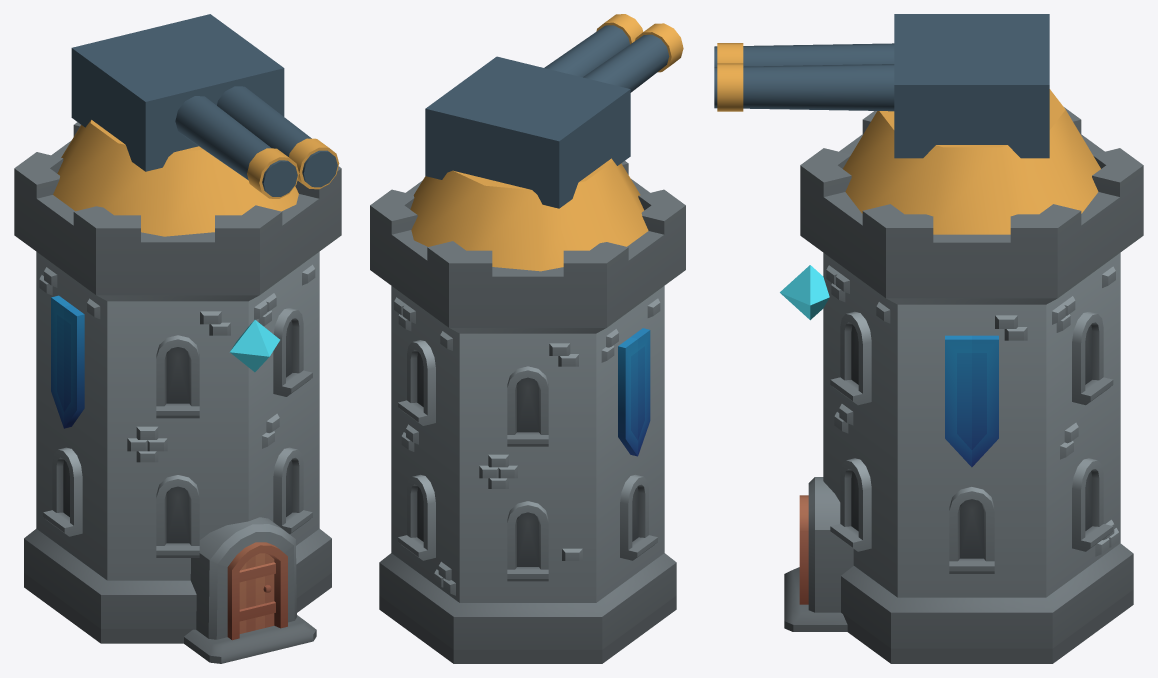
Rendered from tower_gun_l1.glb.
3 renders of one model, left to right at view 1: azimuth 30°, elevation 25°; view 2: azimuth 150°, elevation 25°; view 3: azimuth 270°, elevation 25°, orthographic. The views are drawn at different scales.
Parts seen in each view (by area): view 1: Base, BarrelAssembly, Turret; view 2: Base, BarrelAssembly, Turret; view 3: Base, BarrelAssembly, Turret.
Part boxes in pixels (bbox=[...]): Base: bbox=[14, 122, 341, 663]; BarrelAssembly: bbox=[71, 14, 339, 198]; Turret: bbox=[53, 120, 298, 236]; Base: bbox=[370, 161, 685, 663]; BarrelAssembly: bbox=[425, 14, 683, 208]; Turret: bbox=[410, 158, 648, 271]; Base: bbox=[780, 107, 1143, 663]; BarrelAssembly: bbox=[714, 14, 1049, 158]; Turret: bbox=[843, 89, 1100, 234].
Size of the model in its own units: 0.9298 by 1.9 by 1.33.
Materials: 4 (1 with a texture image).
